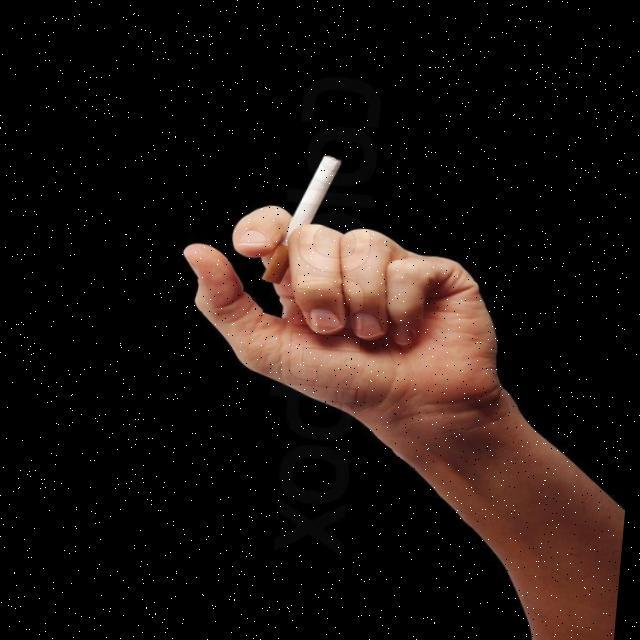cigarette: (248, 146, 356, 294)
